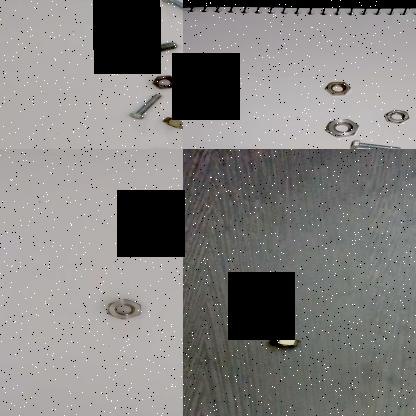Bolts: (123, 38, 181, 60), (124, 90, 163, 120), (344, 138, 402, 149), (151, 0, 183, 18)
NUTS: (101, 298, 145, 322), (323, 118, 360, 140), (268, 334, 306, 352), (320, 80, 352, 97), (150, 72, 180, 90), (154, 112, 183, 130), (378, 108, 410, 124)
